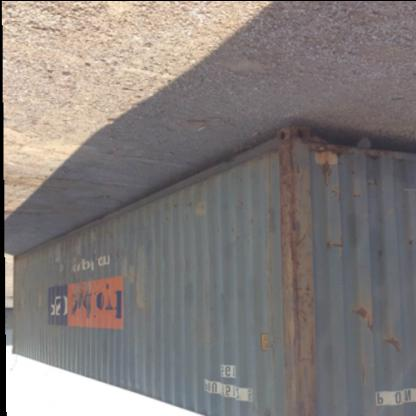Damage: (277, 147, 307, 416), (144, 194, 204, 226), (316, 142, 343, 206), (121, 244, 146, 308), (362, 148, 388, 194), (51, 234, 90, 262), (348, 300, 378, 334), (73, 274, 97, 310), (382, 334, 408, 356), (322, 234, 348, 256), (34, 286, 46, 312), (230, 198, 247, 216), (225, 230, 242, 246), (18, 256, 36, 270), (374, 248, 386, 266)
